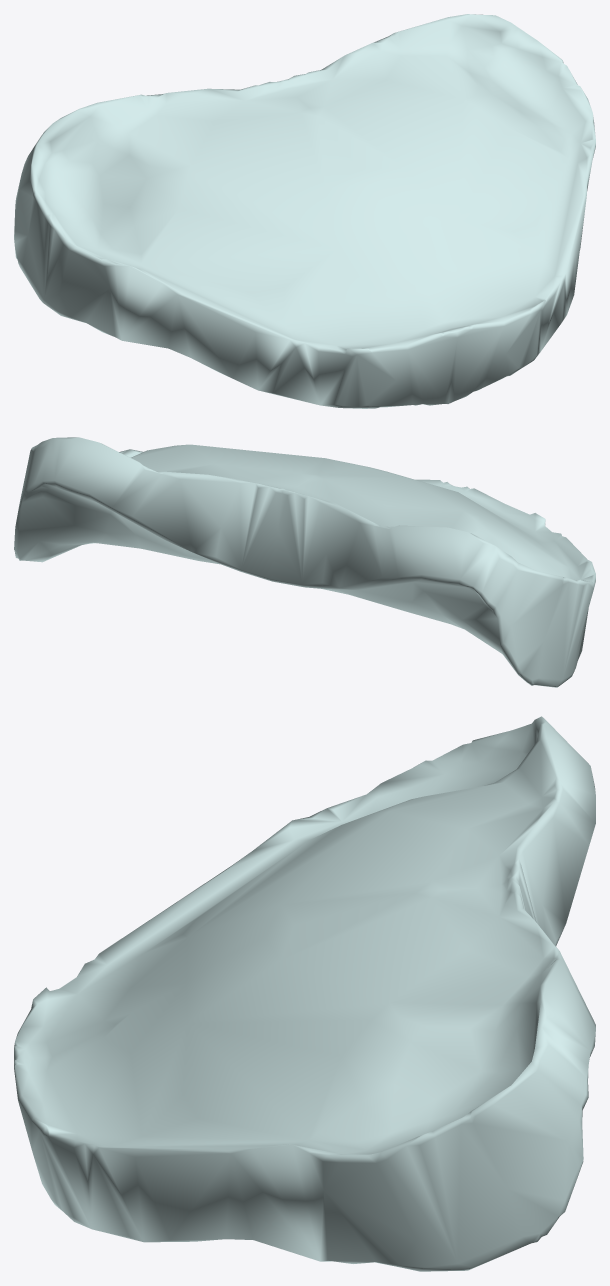
File: Intervertebral_disc_T2-T3_Generated_Mesh_From_X3D.077.glb
The picture shows the model from 3 angles, top to bottom: view 1: azimuth 30°, elevation 25°; view 2: azimuth 150°, elevation 25°; view 3: azimuth 270°, elevation 25°; orthographic projection. The views are drawn at different scales.
Parts seen in each view (by area): view 1: Intervertebral_disc_T2-T3_Generated_Mesh_From_X3D.077; view 2: Intervertebral_disc_T2-T3_Generated_Mesh_From_X3D.077; view 3: Intervertebral_disc_T2-T3_Generated_Mesh_From_X3D.077.
Boxes of the visible parts, left/top/right/bottom form: Intervertebral_disc_T2-T3_Generated_Mesh_From_X3D.077: left=14, top=14, right=595, bottom=408; Intervertebral_disc_T2-T3_Generated_Mesh_From_X3D.077: left=14, top=437, right=595, bottom=687; Intervertebral_disc_T2-T3_Generated_Mesh_From_X3D.077: left=14, top=716, right=595, bottom=1271.
Size of the model in its own units: 0.0344 by 0.0133 by 0.0226.
